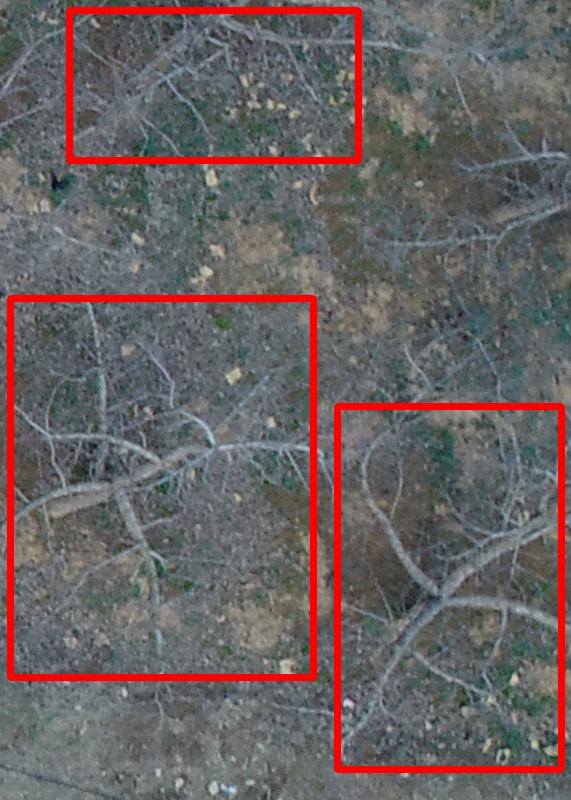apple: (10, 298, 313, 677), (337, 406, 561, 769), (69, 10, 358, 160)
